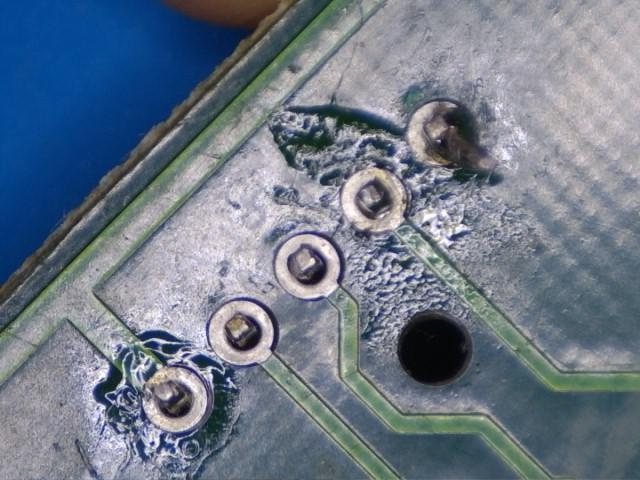pcb_defect: (407, 101, 473, 166), (341, 169, 407, 231)
